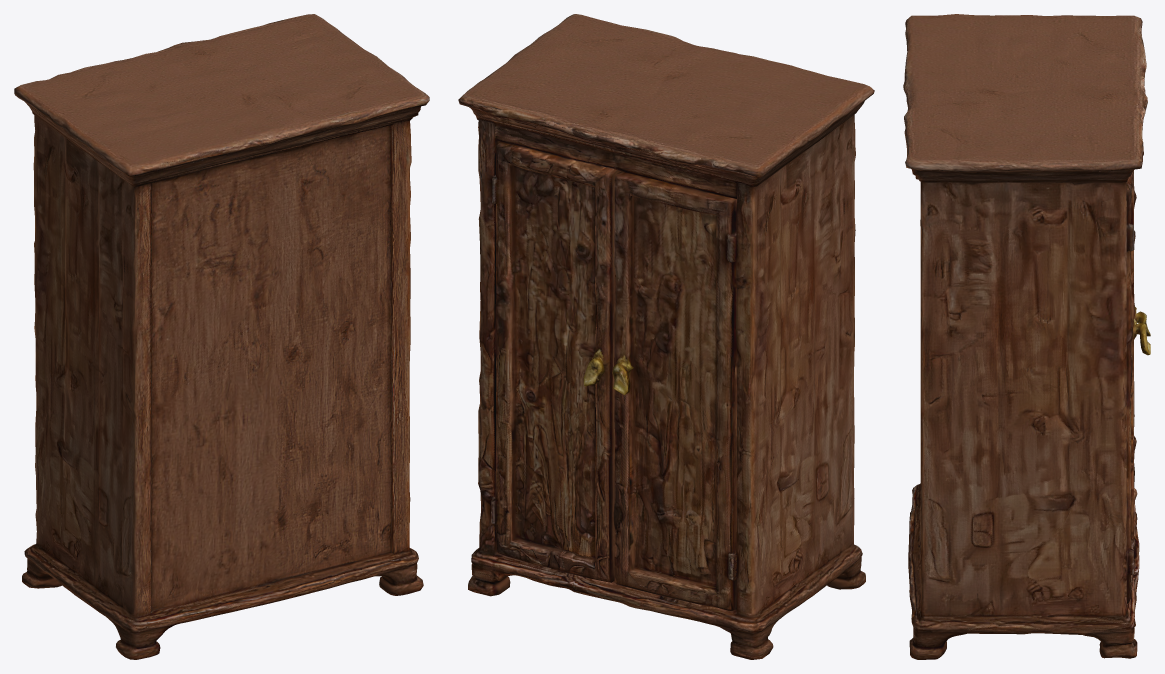
Rendered from scene-wardrobe-panelled-v03.glb.
The picture shows the model from 3 angles, left to right: view 1: azimuth 30°, elevation 25°; view 2: azimuth 150°, elevation 25°; view 3: azimuth 270°, elevation 25°; orthographic projection.
Parts seen in each view (by area): view 1: tripo_node_fe57b2bc-d874-46ed-838d-e280ca26dbc8; view 2: tripo_node_fe57b2bc-d874-46ed-838d-e280ca26dbc8; view 3: tripo_node_fe57b2bc-d874-46ed-838d-e280ca26dbc8.
Part boxes in pixels (bbox=[...]): tripo_node_fe57b2bc-d874-46ed-838d-e280ca26dbc8: bbox=[14, 14, 429, 659]; tripo_node_fe57b2bc-d874-46ed-838d-e280ca26dbc8: bbox=[458, 14, 874, 659]; tripo_node_fe57b2bc-d874-46ed-838d-e280ca26dbc8: bbox=[903, 14, 1150, 659].
Size of the model in its own units: 1.36 by 2.1 by 0.9398.
1 material, 1 textured.
